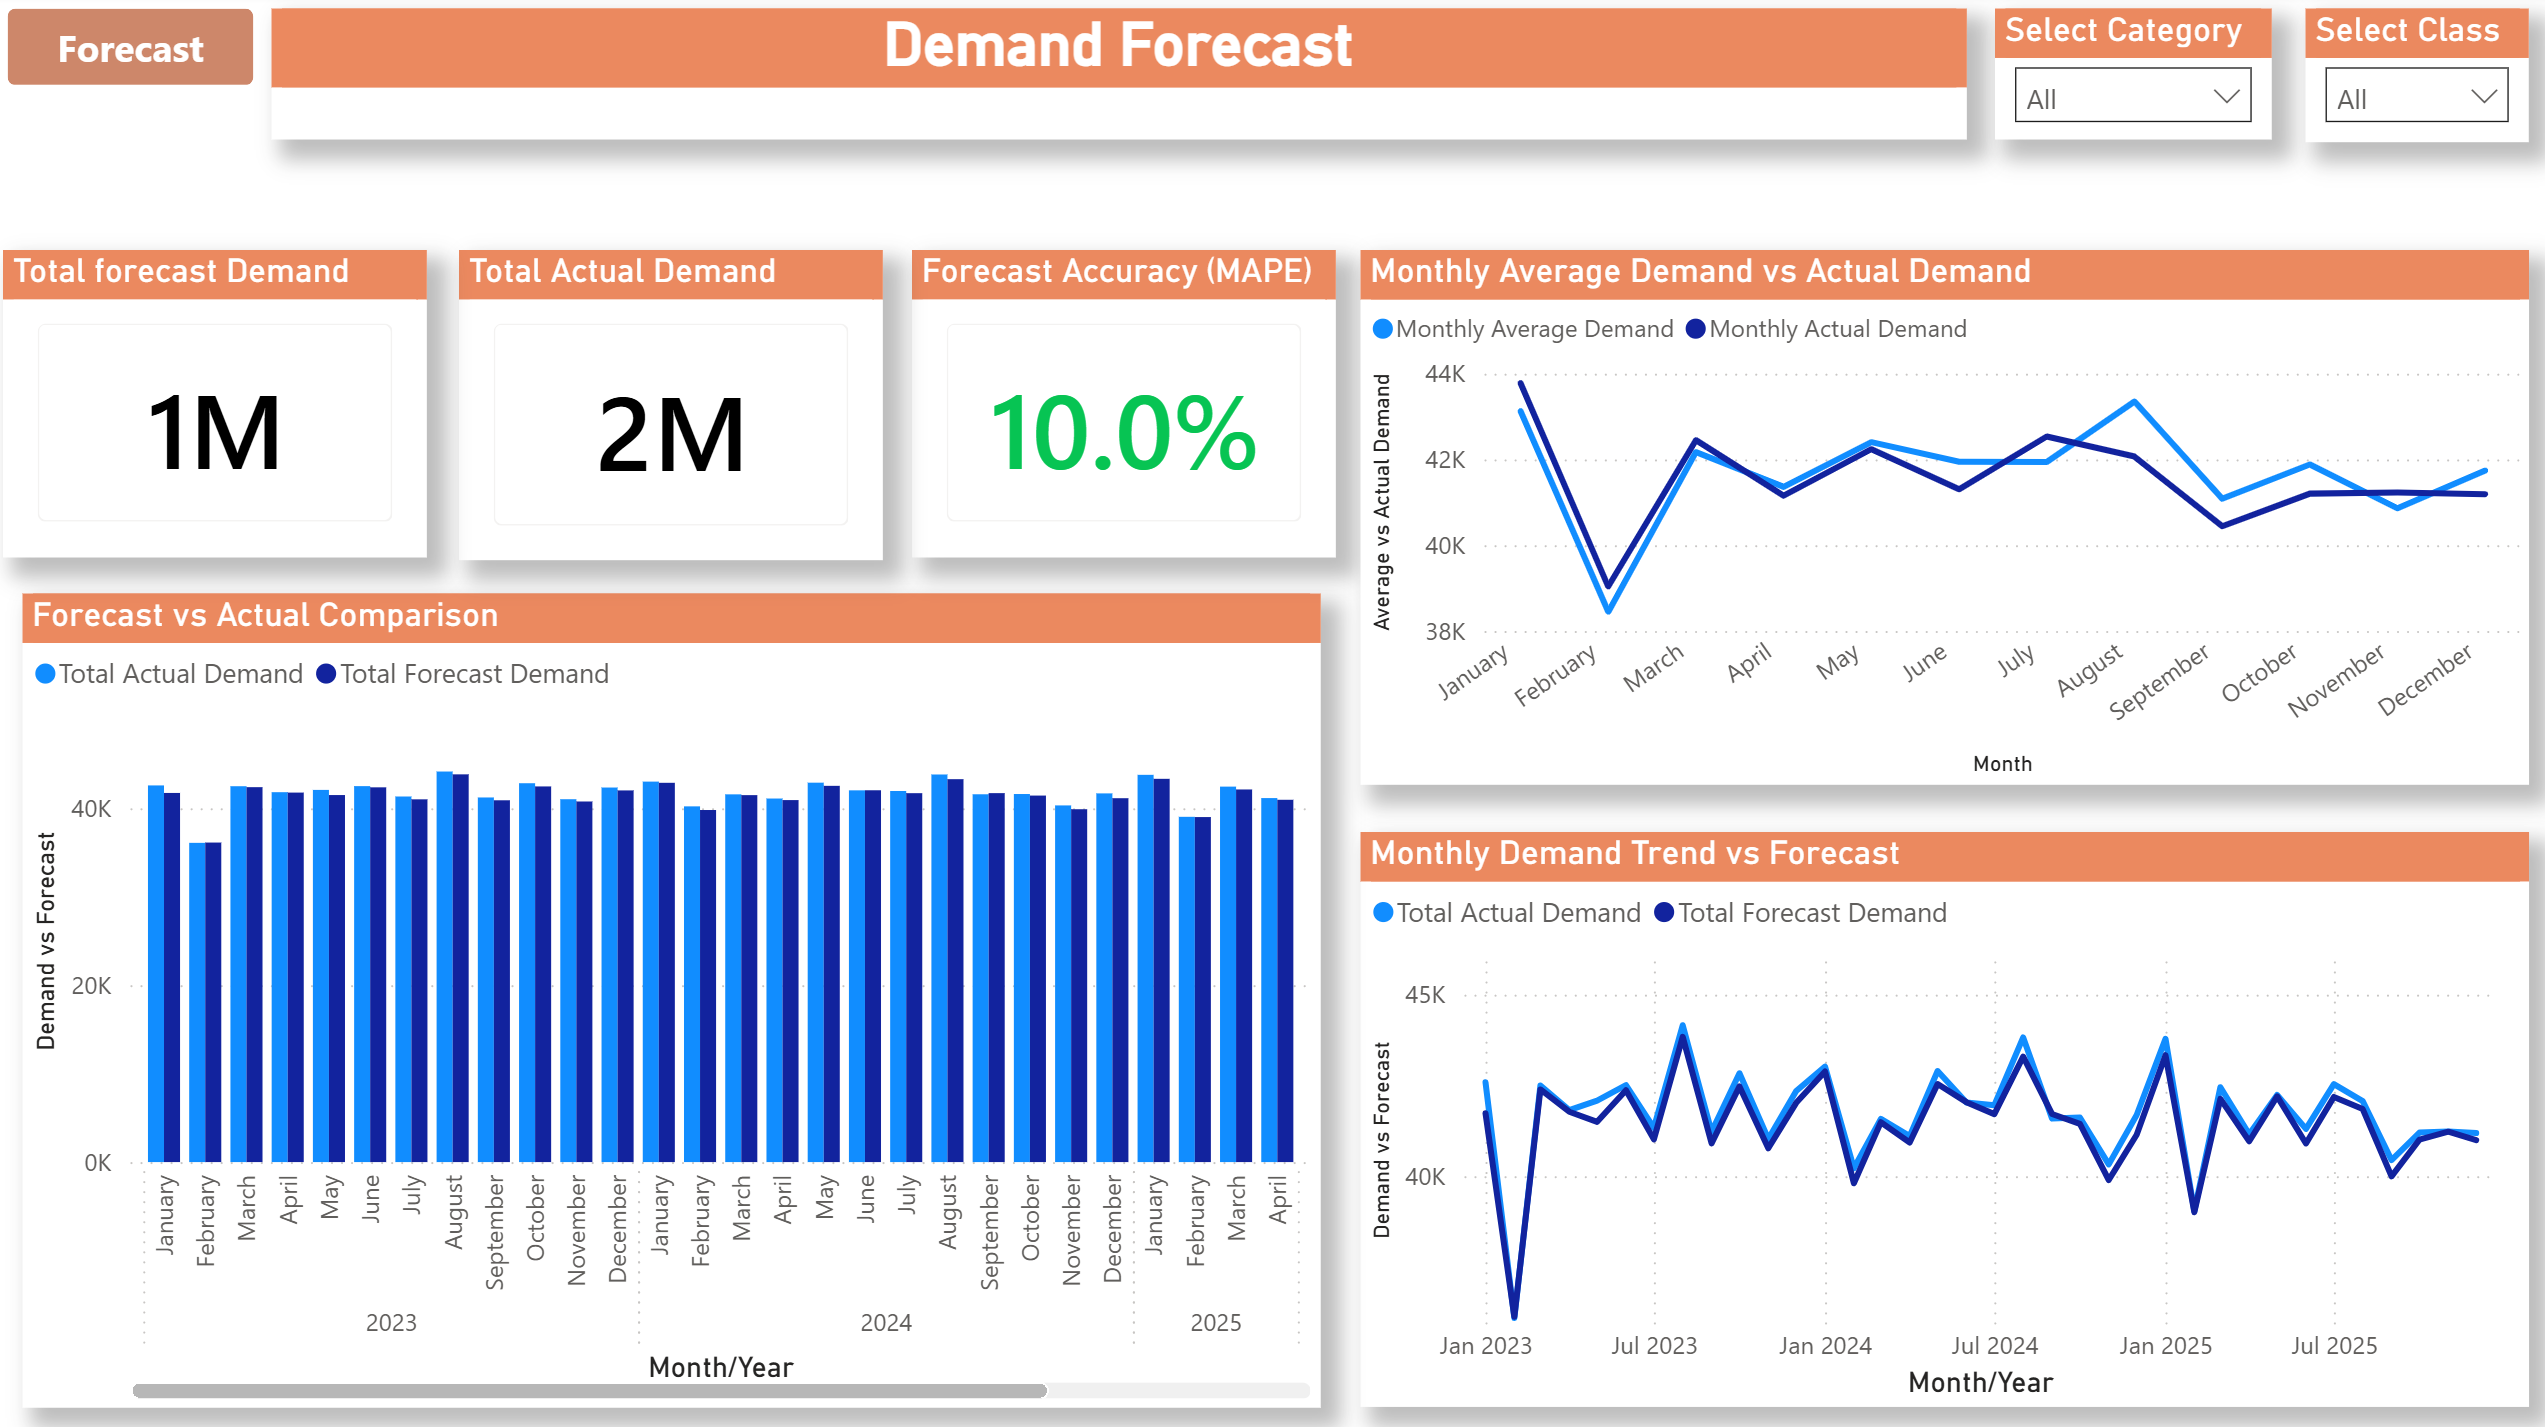

The page's visual inventory and layout, read from the dashboard file:
{"tool":"powerbi","page":{"name":"Demand Forecast","canvas":[1280,720],"ordinal":3},"visuals":[{"type":"lineChart","title":"Monthly Demand Trend vs Forecast","fields":{"Y":["Forecast.Total Actual Demand","Forecast.Total Forecast Demand"],"Category":["Forecast.ForecastDate.Variation.Date Hierarchy.Year","Forecast.ForecastDate.Variation.Date Hierarchy.Month"]},"box":[684.3,417.6,583,286.7],"z":0},{"type":"clusteredColumnChart","title":"Forecast vs Actual Comparison","fields":{"Y":["Forecast.Total Actual Demand","Forecast.Total Forecast Demand"],"Category":["Forecast.ForecastDate.Variation.Date Hierarchy.Year","Forecast.ForecastDate.Variation.Date Hierarchy.Month"]},"box":[17.2,298.2,647,406.2],"z":1000},{"type":"cardVisual","title":"Forecast Accuracy (MAPE)","fields":{"Data":["Forecast.Forecast MAPE (%)"]},"box":[460.4,127.4,211.5,153.2],"z":2000},{"type":"lineChart","title":"Monthly Average Demand vs Actual Demand","fields":{"Category":["Forecast.ForecastDate.Variation.Date Hierarchy.Month"],"Y":["Forecast.Monthly Average Demand","Forecast.Monthly Actual Demand"]},"box":[684.3,127.1,583,266.6],"z":3000},{"type":"cardVisual","title":"Total Actual Demand","fields":{"Data":["Forecast.Total Actual Demand"]},"box":[234.8,127.4,211.5,154.9],"z":4000},{"type":"cardVisual","title":"Total forecast Demand","fields":{"Data":["Forecast.Total Forecast Demand"]},"box":[7.5,127.4,211.5,153.2],"z":5000},{"type":"textbox","title":"Demand Forecast","box":[141.4,6.8,845,65.6],"z":7000},{"type":"actionButton","title":"Overview","box":[9.8,6.9,122.6,38.3],"z":7001},{"type":"slicer","title":"Select Category","fields":{"Values":["Products.Category"]},"box":[1000.9,6.8,138,65.6],"z":7002},{"type":"slicer","title":"Select Class","fields":{"Values":["Products.ABC_Class"]},"box":[1155.9,6.8,111.6,66.4],"z":7003}]}

Visuals, with their boxes in screenshot pixels (x1, y1, x2, y2), scaled from the page's 1280x720 canvas onto the 2545x1427 screenshot:
"Monthly Demand Trend vs Forecast" lineChart: bbox=(1361, 828, 2520, 1396)
"Forecast vs Actual Comparison" clusteredColumnChart: bbox=(34, 591, 1321, 1396)
"Forecast Accuracy (MAPE)" cardVisual: bbox=(915, 252, 1336, 556)
"Monthly Average Demand vs Actual Demand" lineChart: bbox=(1361, 252, 2520, 780)
"Total Actual Demand" cardVisual: bbox=(467, 252, 887, 560)
"Total forecast Demand" cardVisual: bbox=(15, 252, 435, 556)
"Demand Forecast" textbox: bbox=(281, 13, 1961, 143)
"Overview" actionButton: bbox=(19, 14, 263, 90)
"Select Category" slicer: bbox=(1990, 13, 2264, 143)
"Select Class" slicer: bbox=(2298, 13, 2520, 145)
